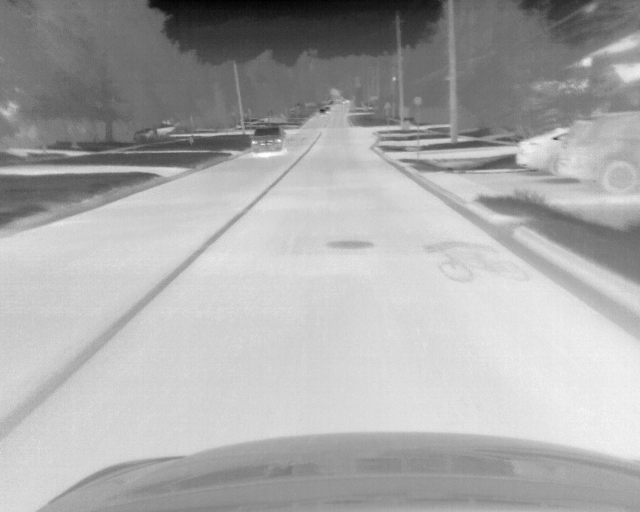car: (562, 108, 640, 193), (517, 125, 568, 174), (250, 125, 287, 155)
